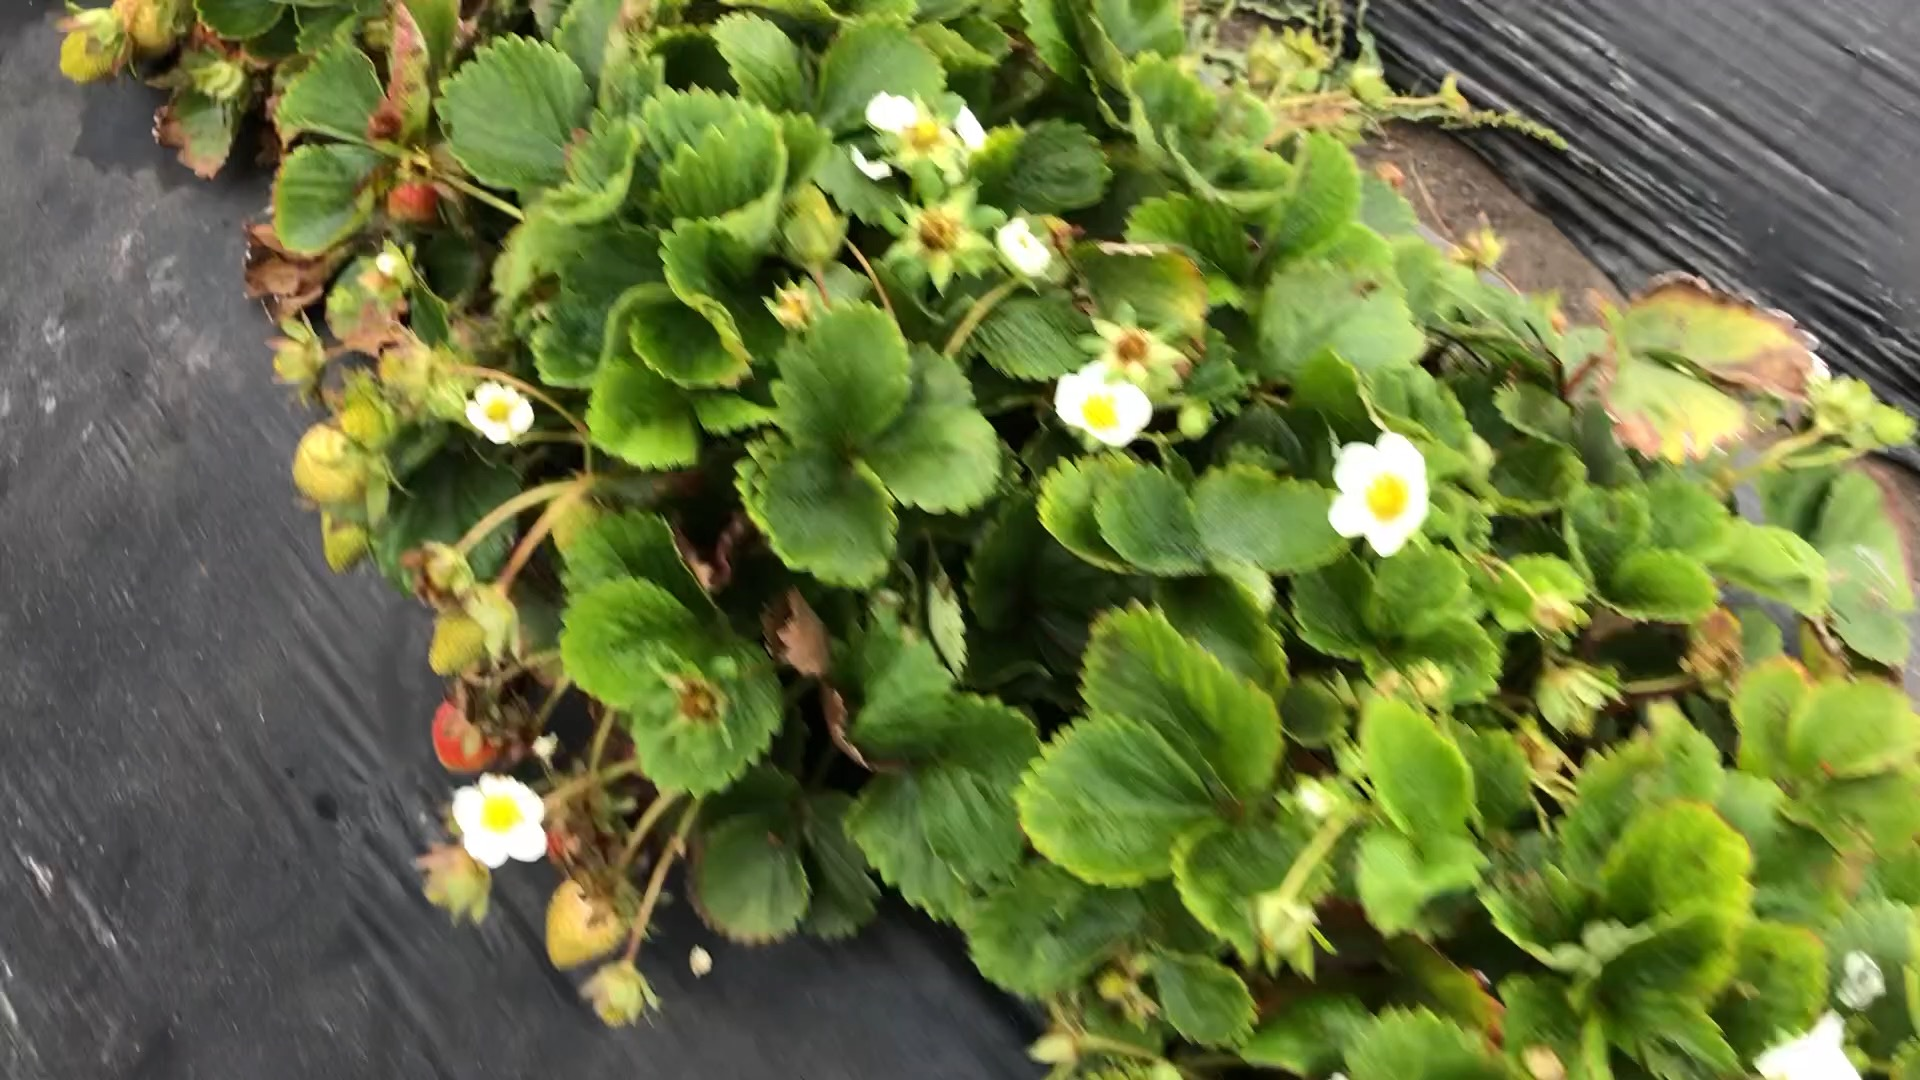unripe_strawberry: (545, 868, 630, 978), (425, 593, 506, 682), (291, 425, 375, 510), (53, 7, 131, 94), (430, 692, 508, 775), (113, 1, 193, 62), (316, 506, 373, 580), (592, 963, 645, 1031), (382, 167, 440, 229)
